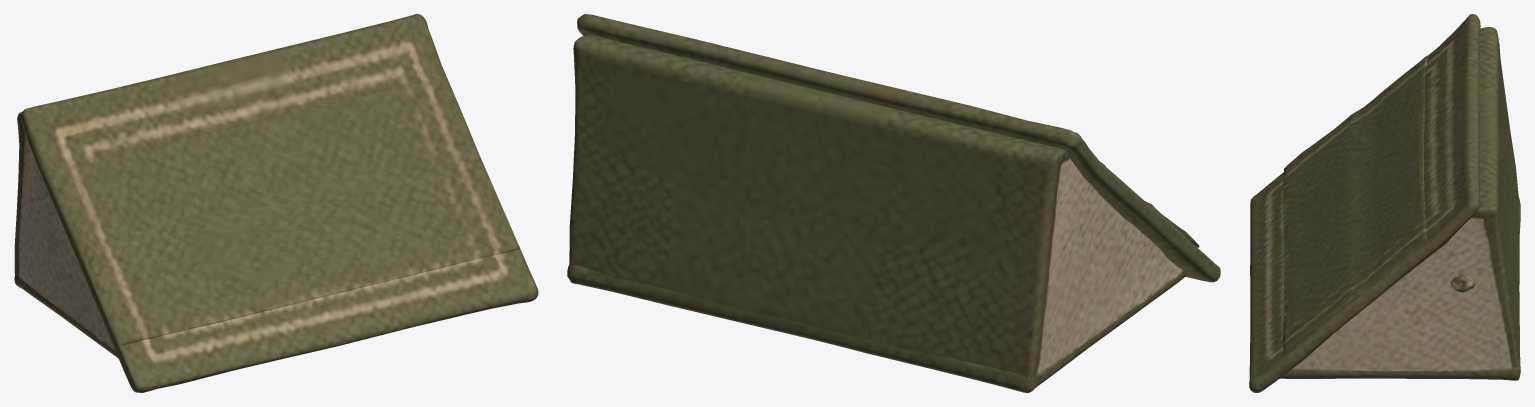
Rendered from rug.geo.glb.
3 renders of one model, left to right at view 1: azimuth 30°, elevation 25°; view 2: azimuth 150°, elevation 25°; view 3: azimuth 270°, elevation 25°, orthographic. The views are drawn at different scales.
Visible parts, largest first — view 1: geometry_0; view 2: geometry_0; view 3: geometry_0.
Boxes of the visible parts, left/top/right/bottom form: geometry_0: left=14, top=14, right=538, bottom=392; geometry_0: left=567, top=14, right=1220, bottom=392; geometry_0: left=1249, top=14, right=1520, bottom=392.
Size of the model in its own units: 1 by 0.4828 by 0.6081.
Materials: 1 (1 with a texture image).
